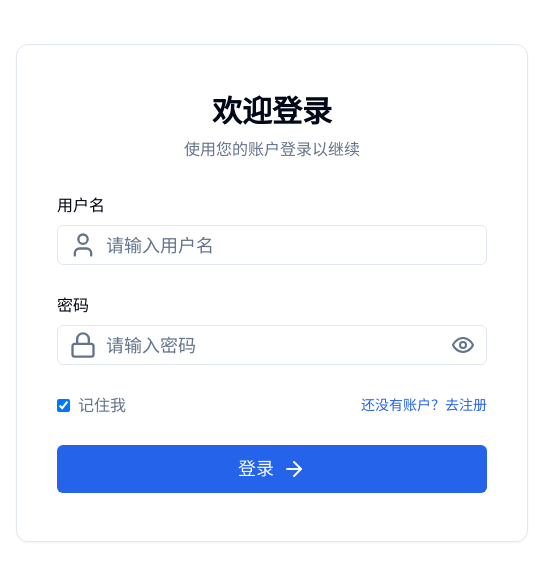
Scenario: LoginPage Component › 应该进行表单校验并提示错误
 直接提交空表单
Submit the form "用户名 密码 记住我 还没有账户？去注册 登录", box x1=57 y1=193 x2=487 y2=493
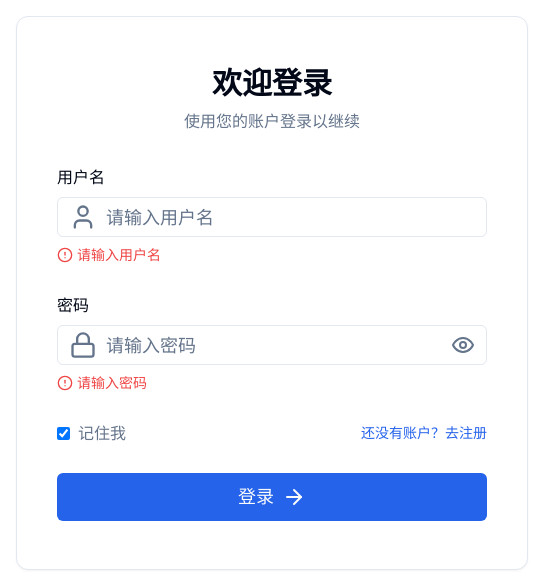
Check: the text "请输入用户名" is shown, box x1=57 y1=246 x2=161 y2=263
Check: the text "请输入密码" is shown, box x1=57 y1=374 x2=147 y2=391
Type "user1" into the field labelled "用户名" at (272, 217), box x1=57 y1=197 x2=487 y2=237
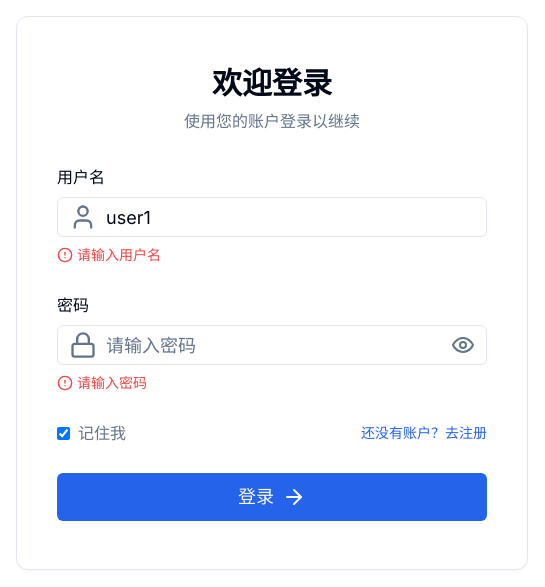
Type "123" into the password field labelled "密码" at (272, 345), box x1=57 y1=325 x2=487 y2=365
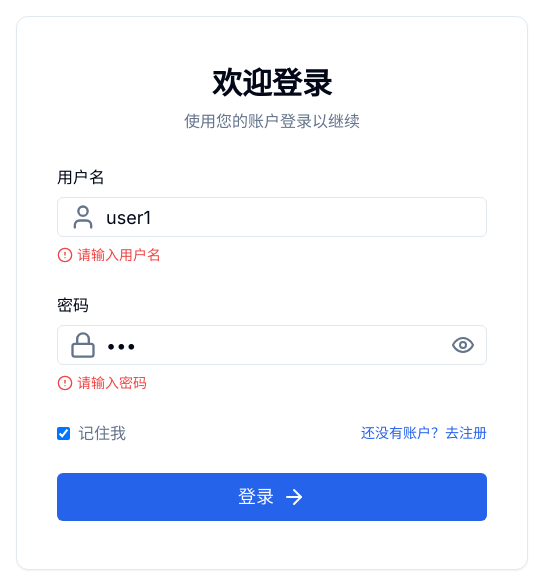
Submit the form "用户名 请输入用户名 密码 请输入密码 记住我 还没有账户？去注册 登录", box x1=57 y1=165 x2=487 y2=521
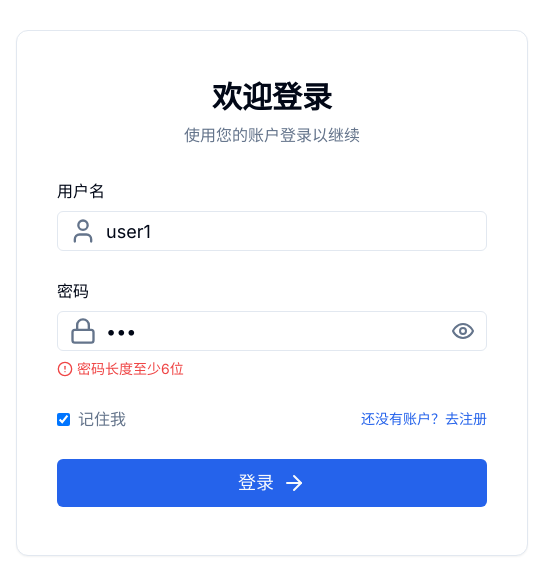
Check: the text "密码长度至少6位" is shown, box x1=57 y1=360 x2=184 y2=377
